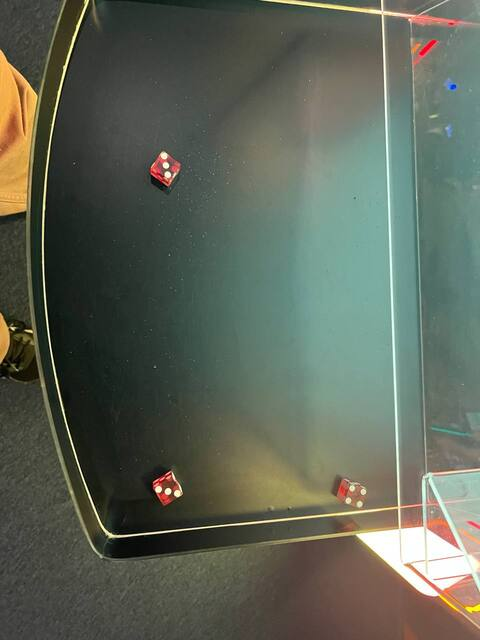four: (340, 482, 370, 510)
three: (146, 148, 180, 185), (152, 477, 183, 508)
